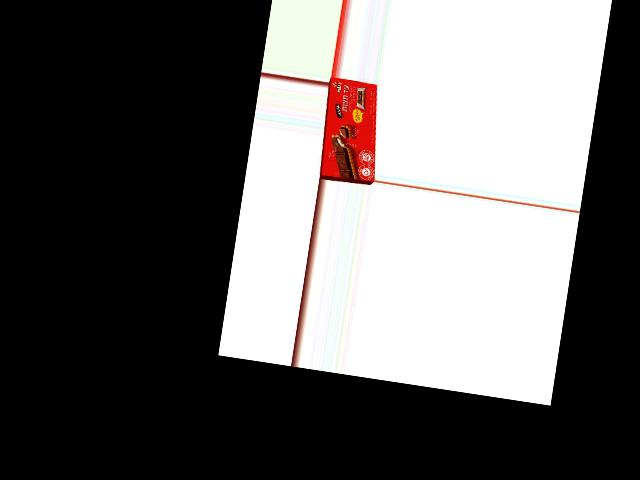chocolate: (319, 76, 382, 185)
